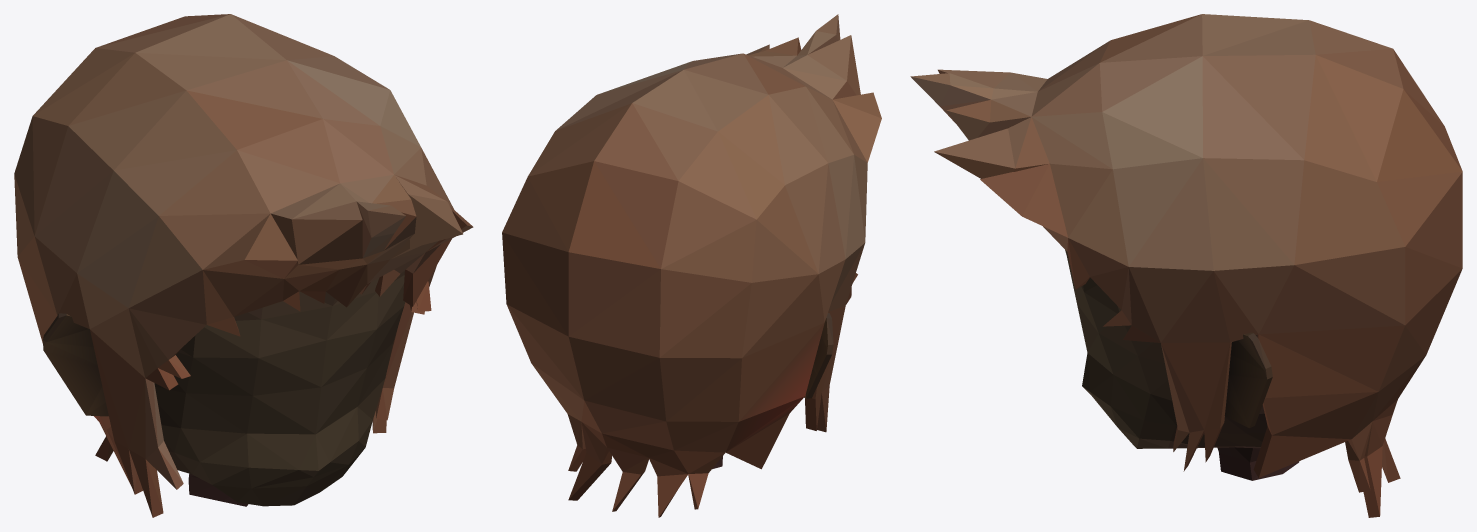
File: helm_darkskin_standard_blonde.fbx
3 renders of one model, left to right at view 1: azimuth 30°, elevation 25°; view 2: azimuth 150°, elevation 25°; view 3: azimuth 270°, elevation 25°, orthographic. The views are drawn at different scales.
Visible parts, largest first — view 1: helm_darkskin_standard_blonde; view 2: helm_darkskin_standard_blonde; view 3: helm_darkskin_standard_blonde.
Part boxes in pixels (x1,y1,x2,y2): helm_darkskin_standard_blonde: (14, 14, 473, 517); helm_darkskin_standard_blonde: (502, 14, 881, 517); helm_darkskin_standard_blonde: (910, 14, 1462, 517).
Size of the model in its own units: 1.13 by 1.38 by 1.55.
